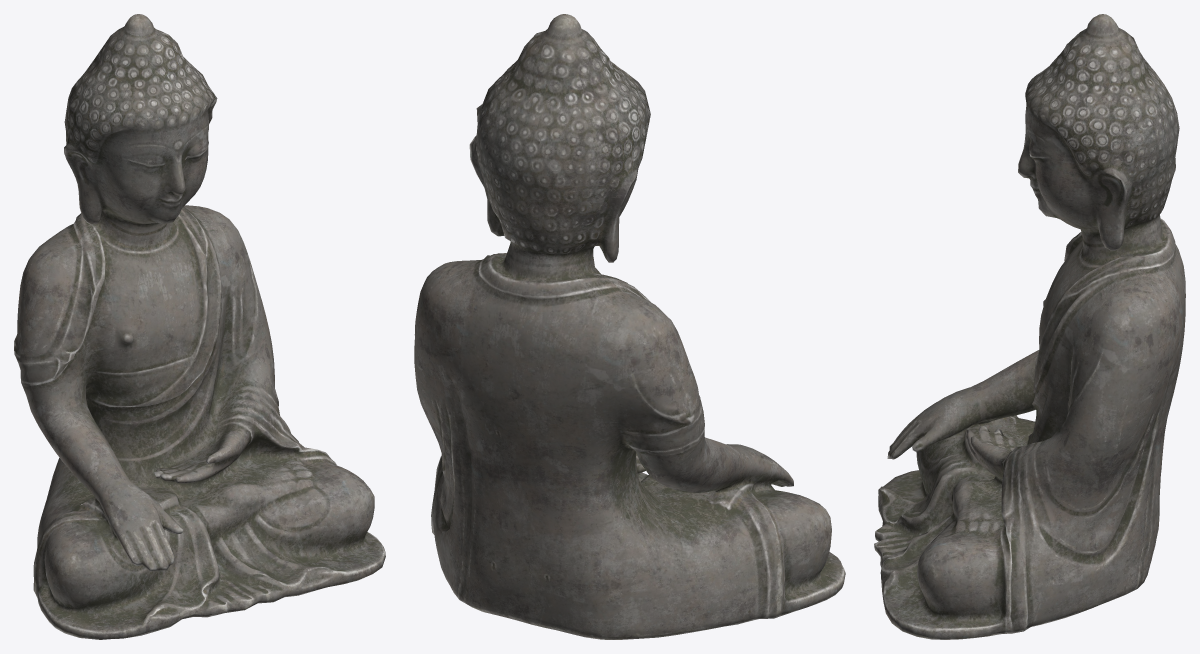
File: buddha_2.glb
3 renders of one model, left to right at view 1: azimuth 30°, elevation 25°; view 2: azimuth 150°, elevation 25°; view 3: azimuth 270°, elevation 25°, orthographic. The views are drawn at different scales.
Parts seen in each view (by area): view 1: budha_rest_ready.002; view 2: budha_rest_ready.002; view 3: budha_rest_ready.002.
Boxes of the visible parts, bbox=[...] form: budha_rest_ready.002: bbox=[14, 14, 385, 639]; budha_rest_ready.002: bbox=[414, 14, 845, 639]; budha_rest_ready.002: bbox=[874, 14, 1185, 639].
Bounding box in the file's own units: 0.1644 × 0.2512 × 0.1308.
1 material, 1 textured.
